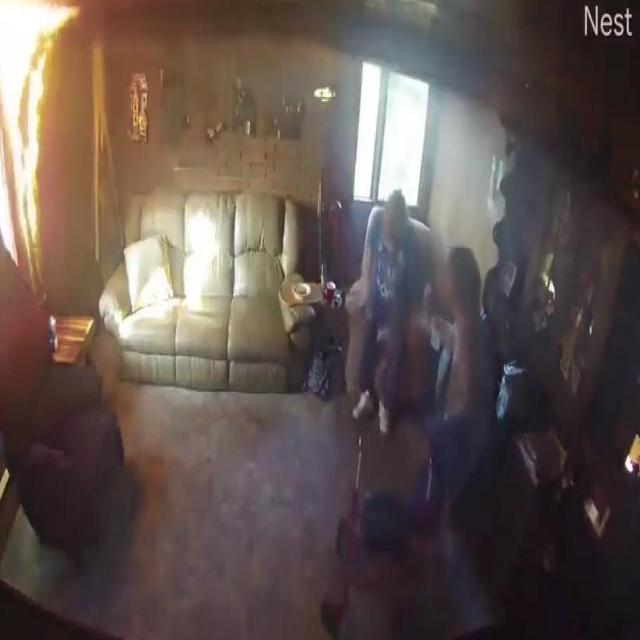smoke: (0, 0, 79, 269)
